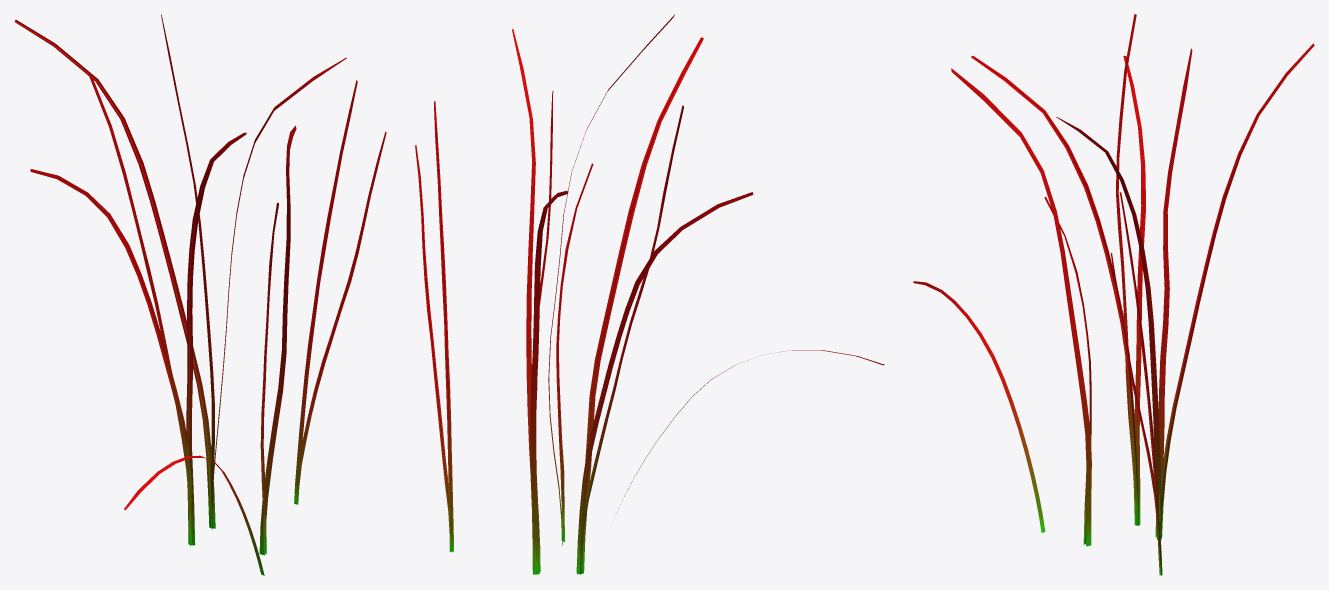
Rendered from Var1_LOD0.fbx.
3 renders of one model, left to right at view 1: azimuth 30°, elevation 25°; view 2: azimuth 150°, elevation 25°; view 3: azimuth 270°, elevation 25°, orthographic. The views are drawn at different scales.
Parts seen in each view (by area): view 1: _55cd_Var1_LOD0; view 2: _55cd_Var1_LOD0; view 3: _55cd_Var1_LOD0.
Part boxes in pixels (x1,y1,x2,y2): _55cd_Var1_LOD0: [14, 14, 386, 575]; _55cd_Var1_LOD0: [415, 14, 884, 574]; _55cd_Var1_LOD0: [913, 14, 1314, 575].
Size of the model in its own units: 59.6 by 79.05 by 60.32.
